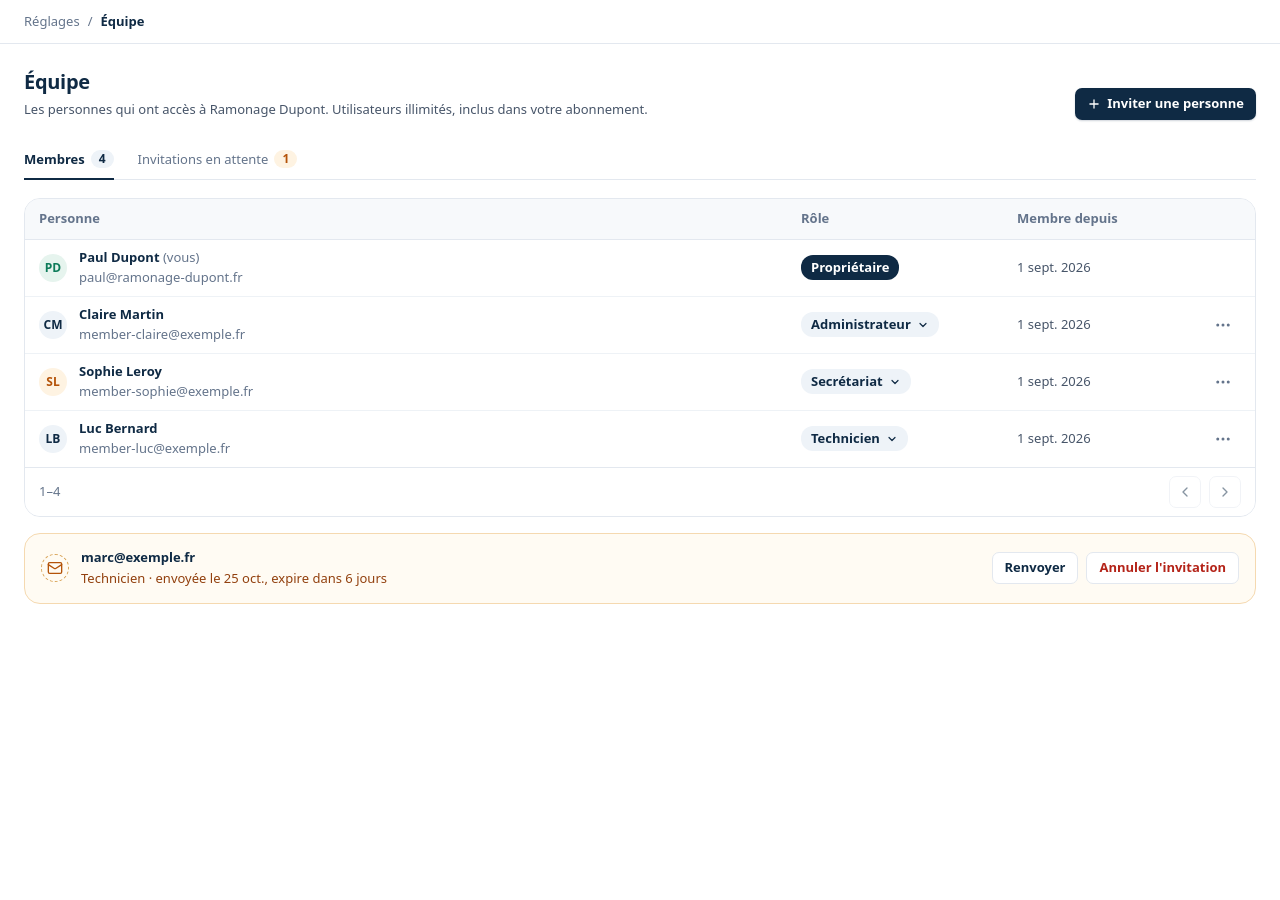
Scenario: MemberRow role and invitation actions › shows a refused role change with the short trace id and keeps the previous role
The image size is (1280, 900).
Expected: the text "Luc Bernard" is shown, x1=79 y1=419 x2=158 y2=437
Expected: the text "(vous)" is shown, x1=160 y1=248 x2=199 y2=266
What coordinates should you click on to do the following:
click the button "Technicien"
I would click on:
 (854, 439)
Its box is x1=801 y1=426 x2=908 y2=451.
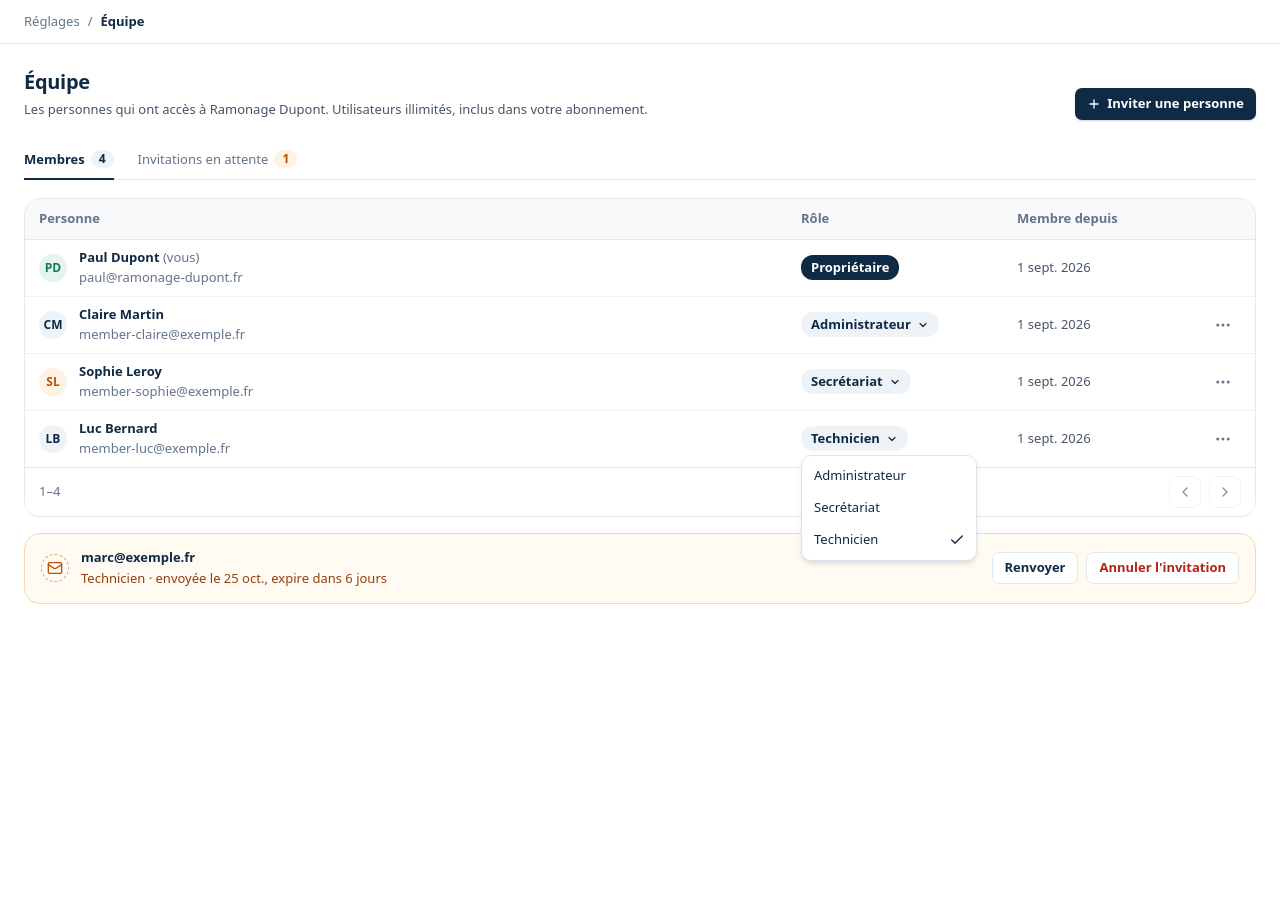
What coordinates should you click on to do the following:
click the menu item "Secrétariat"
I would click on:
 (847, 507)
Its box is x1=814 y1=498 x2=880 y2=516.
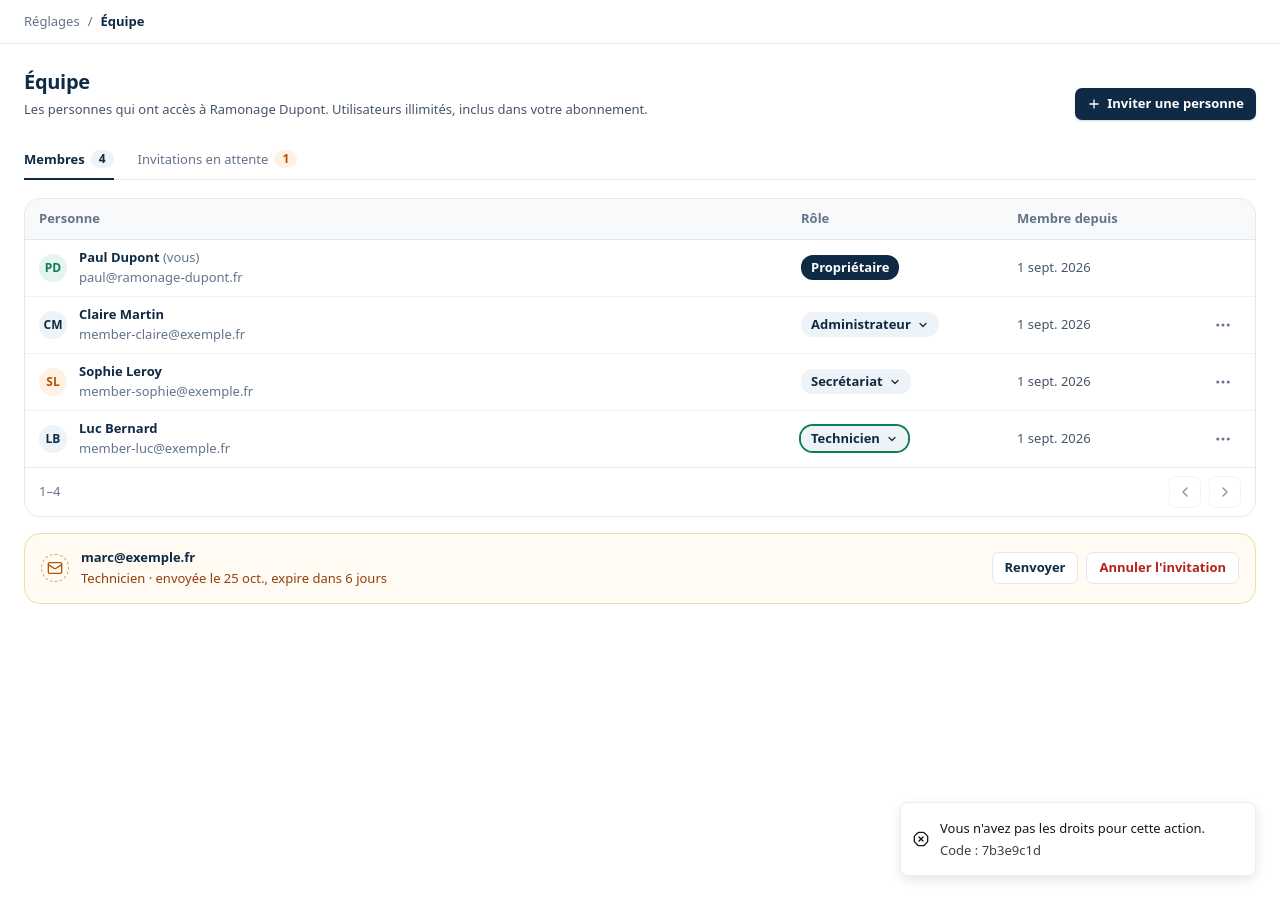
Now the text "Vous n'avez pas les droits pour cette action." is shown, box x1=940 y1=819 x2=1205 y2=839
